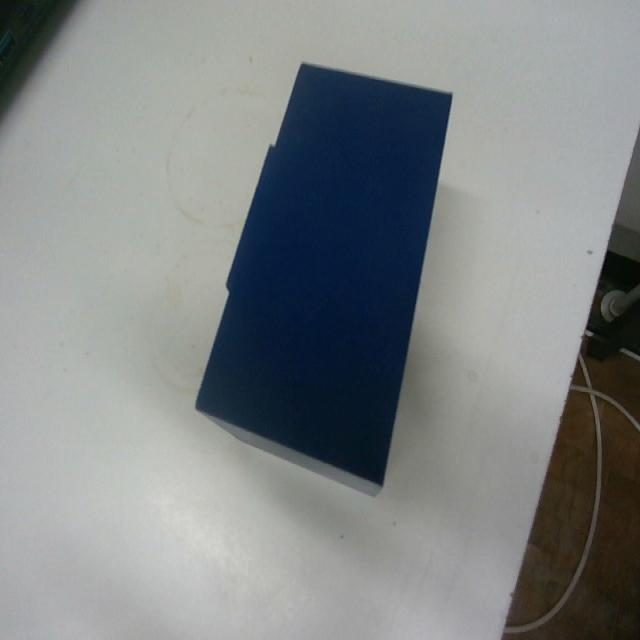Blue Cuboid: (193, 58, 453, 498)
